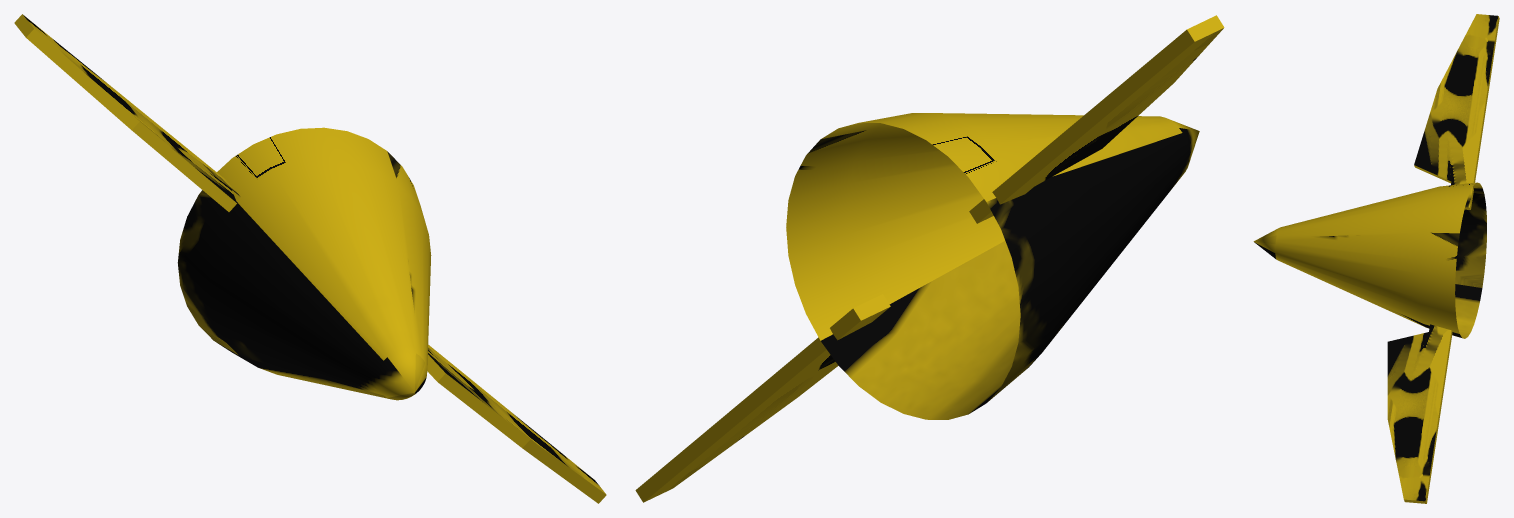
Rendered from glider_hybrid_whoi_left_propeller.dae.
3 views of the same model, side by side, from view 1: azimuth 30°, elevation 25°; view 2: azimuth 150°, elevation 25°; view 3: azimuth 270°, elevation 25° (orthographic). The views are drawn at different scales.
Visible parts, largest first — view 1: Cube.003; view 2: Cube.003; view 3: Cube.003.
Part boxes in pixels (bbox=[...]): Cube.003: bbox=[14, 14, 606, 503]; Cube.003: bbox=[635, 15, 1224, 502]; Cube.003: bbox=[1253, 14, 1499, 503].
Bounding box in the file's own units: 0.0756 × 0.0504 × 0.0762.
Materials: 1 (1 with a texture image).
